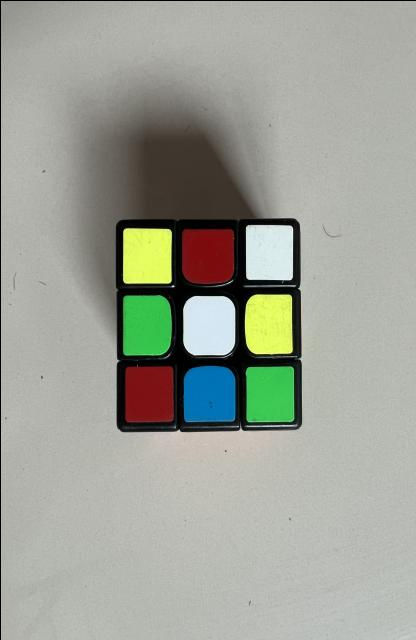Blue: (182, 365, 235, 421)
Green: (121, 295, 171, 355), (245, 365, 294, 421)
Red: (181, 228, 233, 284), (125, 365, 172, 421)
White: (182, 295, 235, 355), (245, 224, 292, 280)
Yellow: (244, 294, 292, 354), (121, 228, 171, 282)
